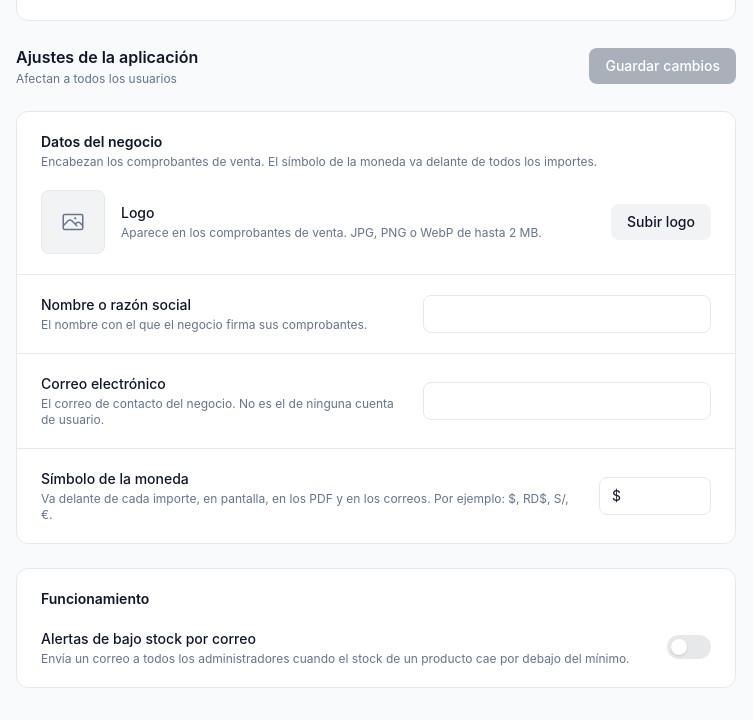
SettingsPage › Datos del negocio y moneda (T6-03) › el campo no deja teclear más caracteres de los que admite el servidor
The width and height of the screenshot is (753, 720).
(page scrolled)
Clear the field labelled "Símbolo de la moneda": (655, 496) 599,477 -> 711,515
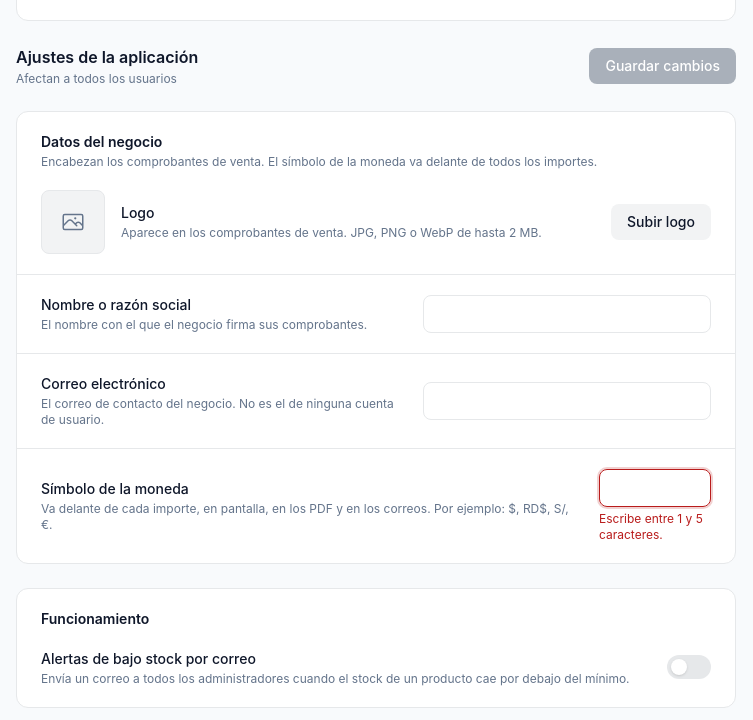
In the field labelled "Símbolo de la moneda": (655, 488) 599,469 -> 711,507, type "RD$MXN"
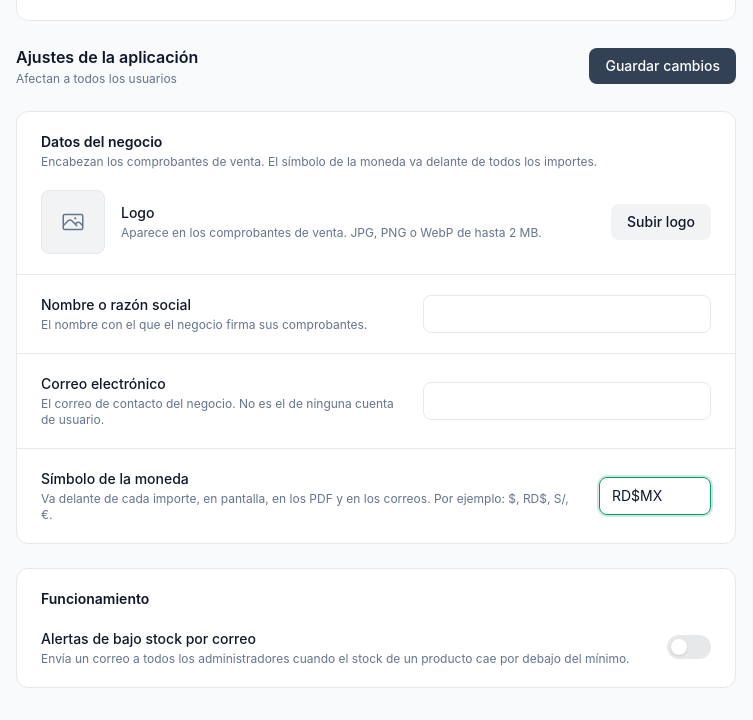
Result: the field labelled "Símbolo de la moneda" holds "RD$MX" at 599,477 -> 711,515
